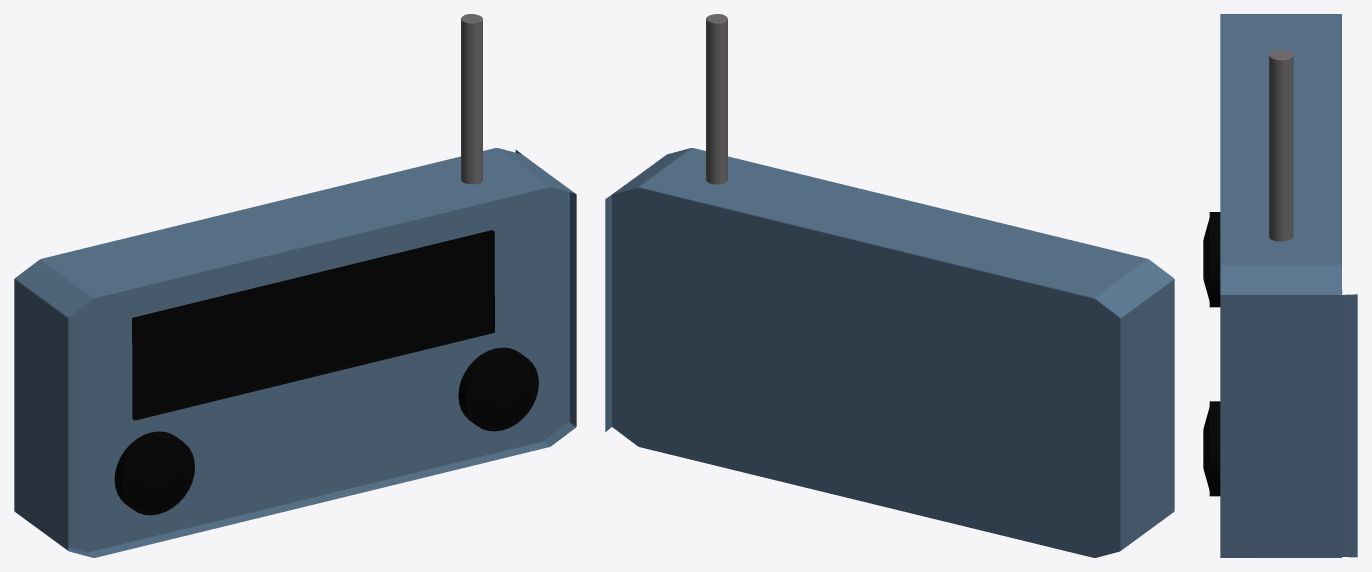
File: Radio2.fbx
3 views of the same model, side by side, from view 1: azimuth 30°, elevation 25°; view 2: azimuth 150°, elevation 25°; view 3: azimuth 270°, elevation 25° (orthographic). The views are drawn at different scales.
Parts seen in each view (by area): view 1: Cube; view 2: Cube; view 3: Cube.
Boxes of the visible parts, left/top/right/bottom form: Cube: left=14, top=14, right=576, bottom=557; Cube: left=605, top=14, right=1174, bottom=557; Cube: left=1203, top=14, right=1357, bottom=557.
Size of the model in its own units: 80.04 by 63.37 by 18.63.
